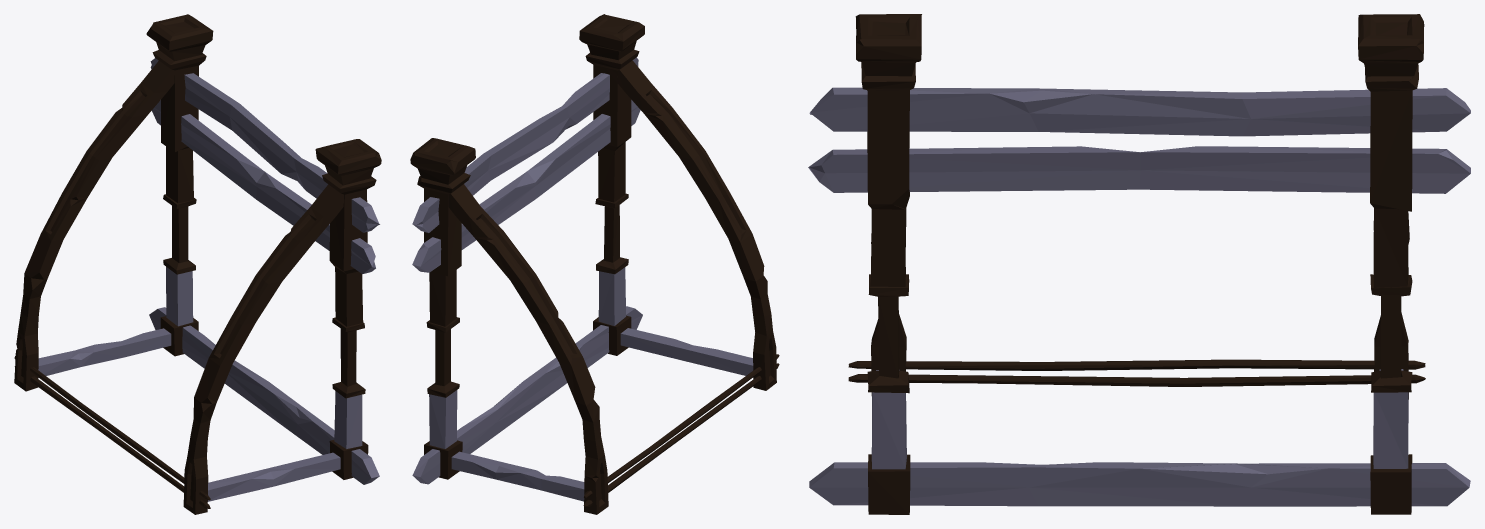
The model's file is SFFA_Weapon_Rack_003.fbx.
The picture shows the model from 3 angles, left to right: view 1: azimuth 30°, elevation 25°; view 2: azimuth 150°, elevation 25°; view 3: azimuth 270°, elevation 25°; orthographic projection. The views are drawn at different scales.
Visible parts, largest first — view 1: SFFA_Weapon_Rack_003; view 2: SFFA_Weapon_Rack_003; view 3: SFFA_Weapon_Rack_003.
Boxes of the visible parts, x1,y1,x2,y2 form: SFFA_Weapon_Rack_003: (14, 14, 381, 514); SFFA_Weapon_Rack_003: (410, 14, 779, 514); SFFA_Weapon_Rack_003: (808, 14, 1470, 514).
Bounding box in the file's own units: 66.83 × 113 × 142.
